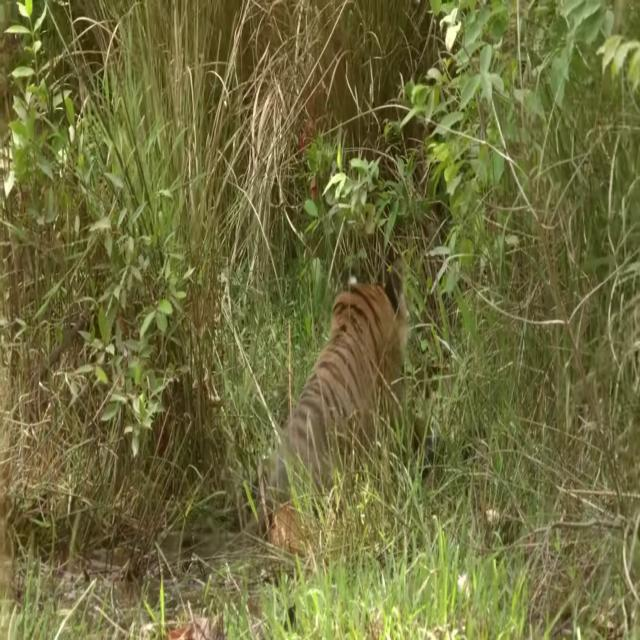tiger: (248, 258, 416, 488)
